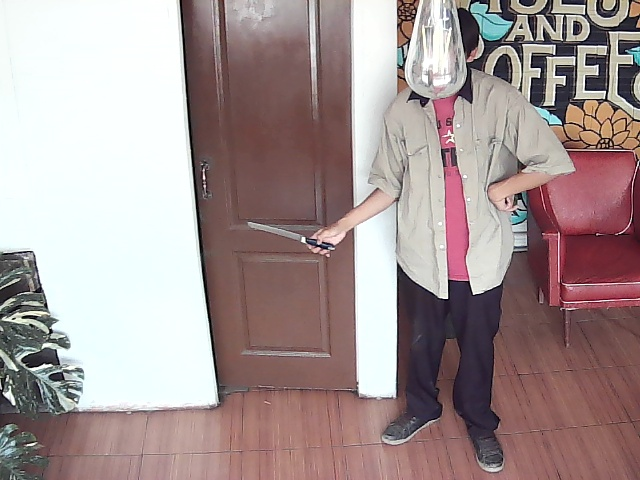cuchillo: (243, 215, 345, 261)
